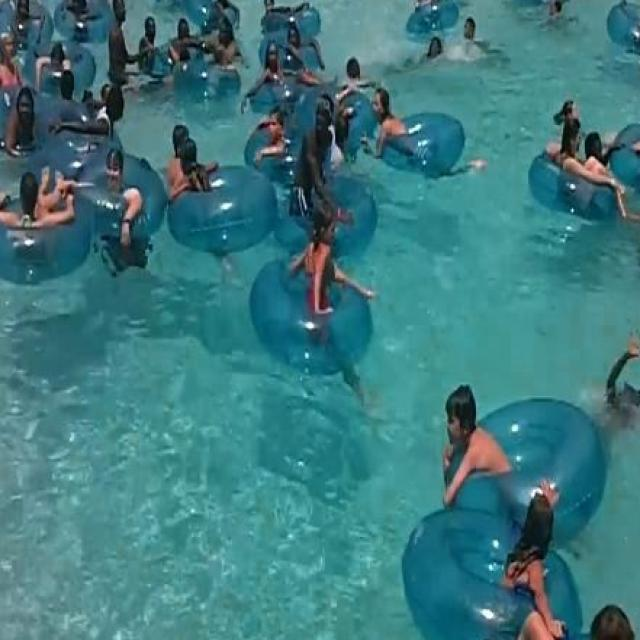Drowning: (599, 330, 640, 422)
Swimming: (424, 380, 514, 506), (496, 504, 571, 614), (302, 206, 354, 328), (167, 117, 229, 201), (539, 106, 596, 194), (96, 146, 149, 236), (6, 169, 74, 233), (302, 97, 343, 194), (370, 83, 419, 160), (250, 106, 290, 171), (448, 15, 496, 64)
